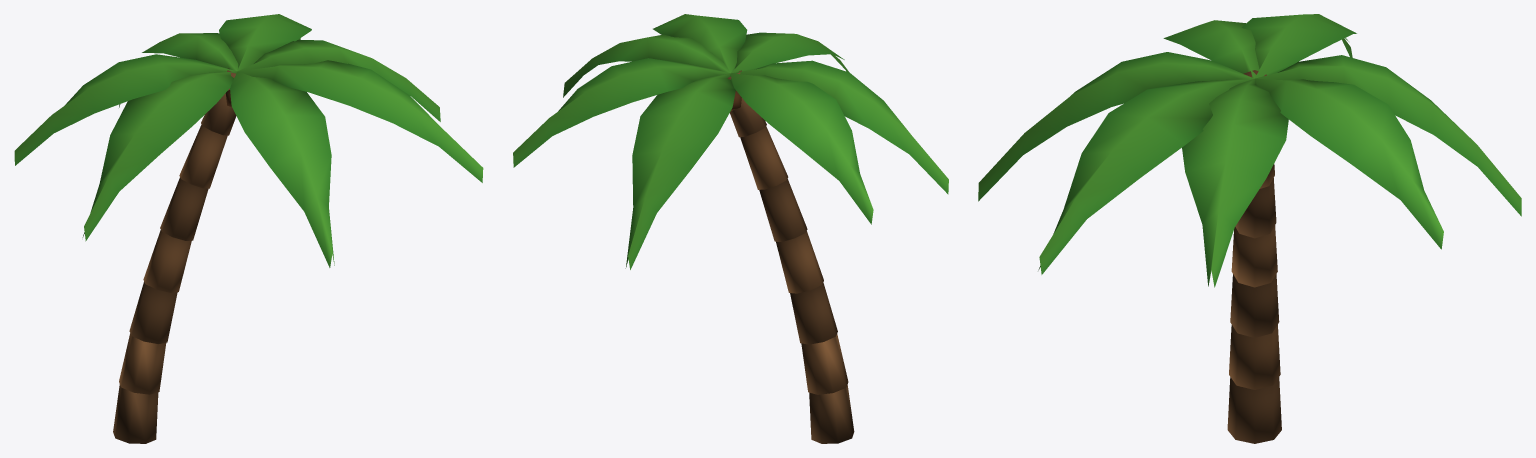
Rendered from palmier_b.glb.
3 views of the same model, side by side, from view 1: azimuth 30°, elevation 25°; view 2: azimuth 150°, elevation 25°; view 3: azimuth 270°, elevation 25° (orthographic). The views are drawn at different scales.
Parts seen in each view (by area): view 1: Frunze, Corp; view 2: Frunze, Corp; view 3: Frunze, Corp.
Part boxes in pixels (box(x1,y1,x2,y2)): Frunze: box(14, 14, 483, 267); Corp: box(113, 68, 236, 443); Frunze: box(513, 14, 948, 269); Corp: box(727, 70, 854, 443); Frunze: box(978, 14, 1521, 287); Corp: box(1227, 70, 1281, 443).
Size of the model in its own units: 3.26 by 2.97 by 3.39.
